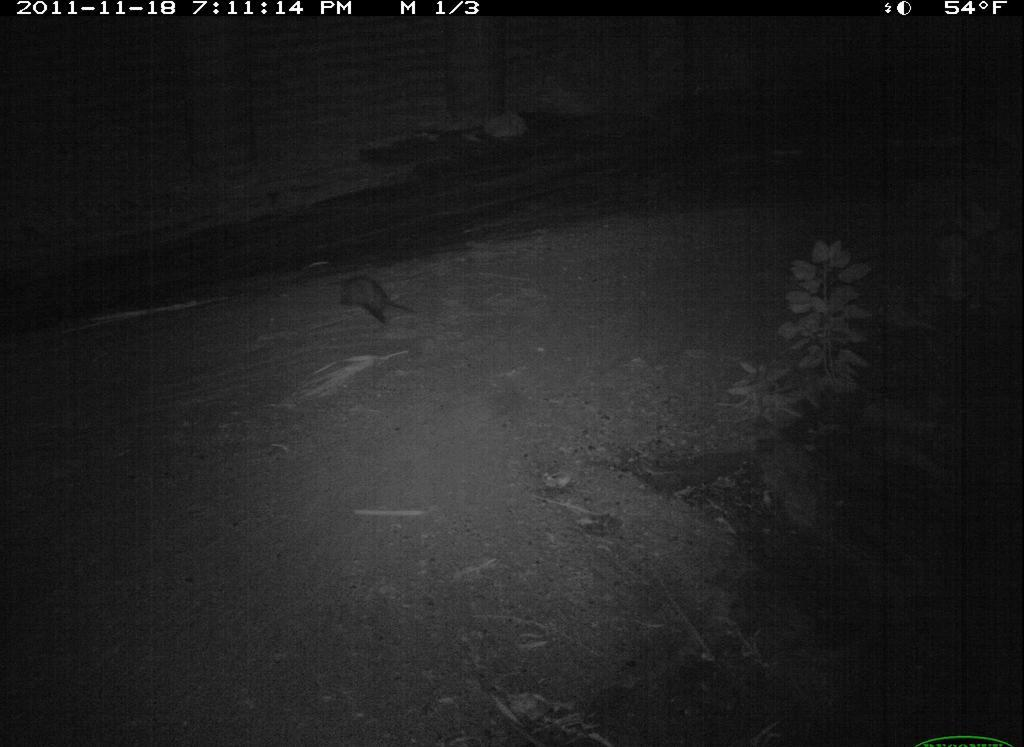opossum: (309, 253, 440, 347)
